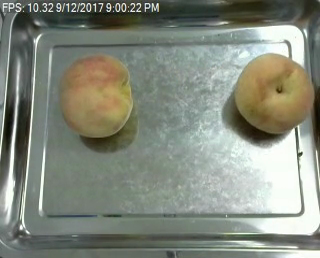Peach: (232, 52, 314, 134), (58, 51, 133, 138)
